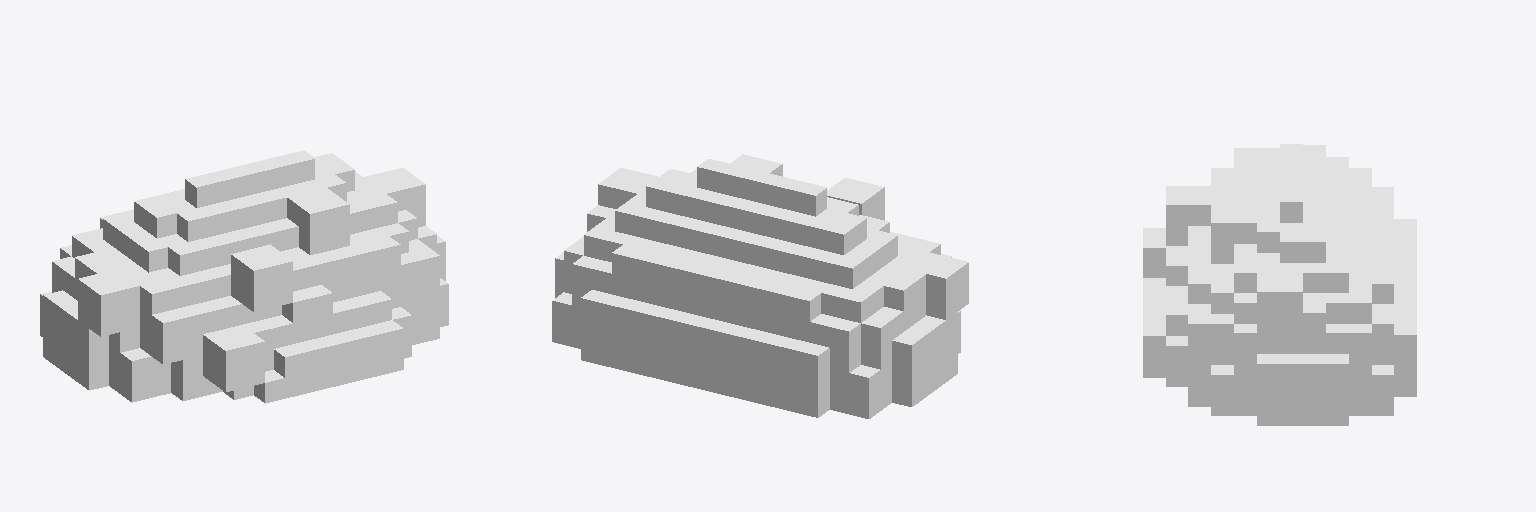
Rendered from BushBlueFruit.obj.
The picture shows the model from 3 angles: view 1: azimuth 30°, elevation 25°; view 2: azimuth 150°, elevation 25°; view 3: azimuth 270°, elevation 25°; orthographic projection.
Bounding box in the file's own units: 18 × 8 × 12.